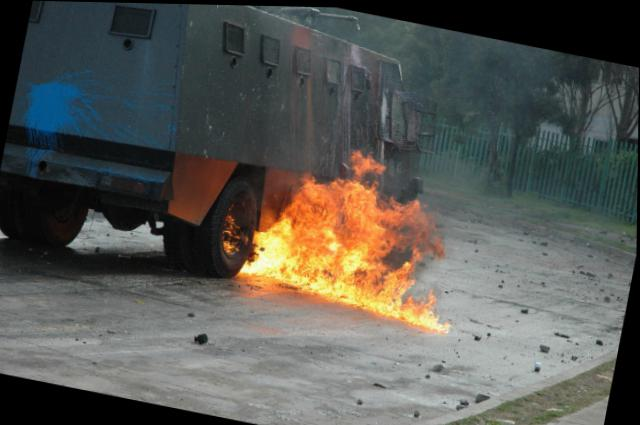fire: (223, 128, 470, 324)
